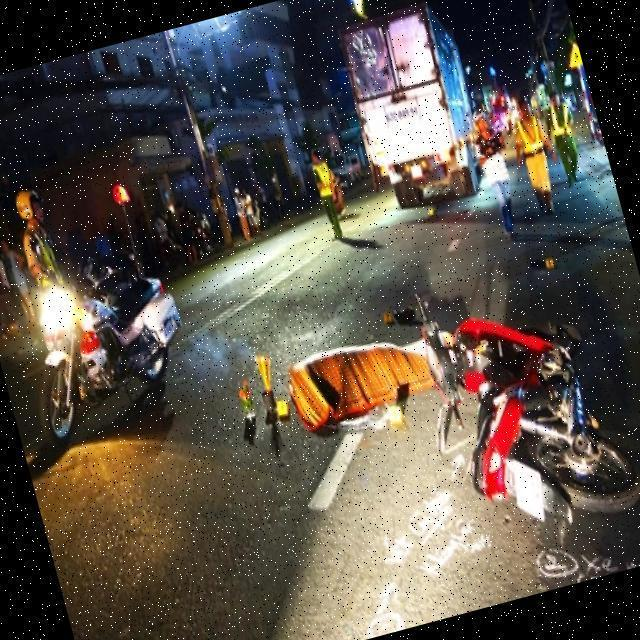accident: (356, 224, 640, 598)
